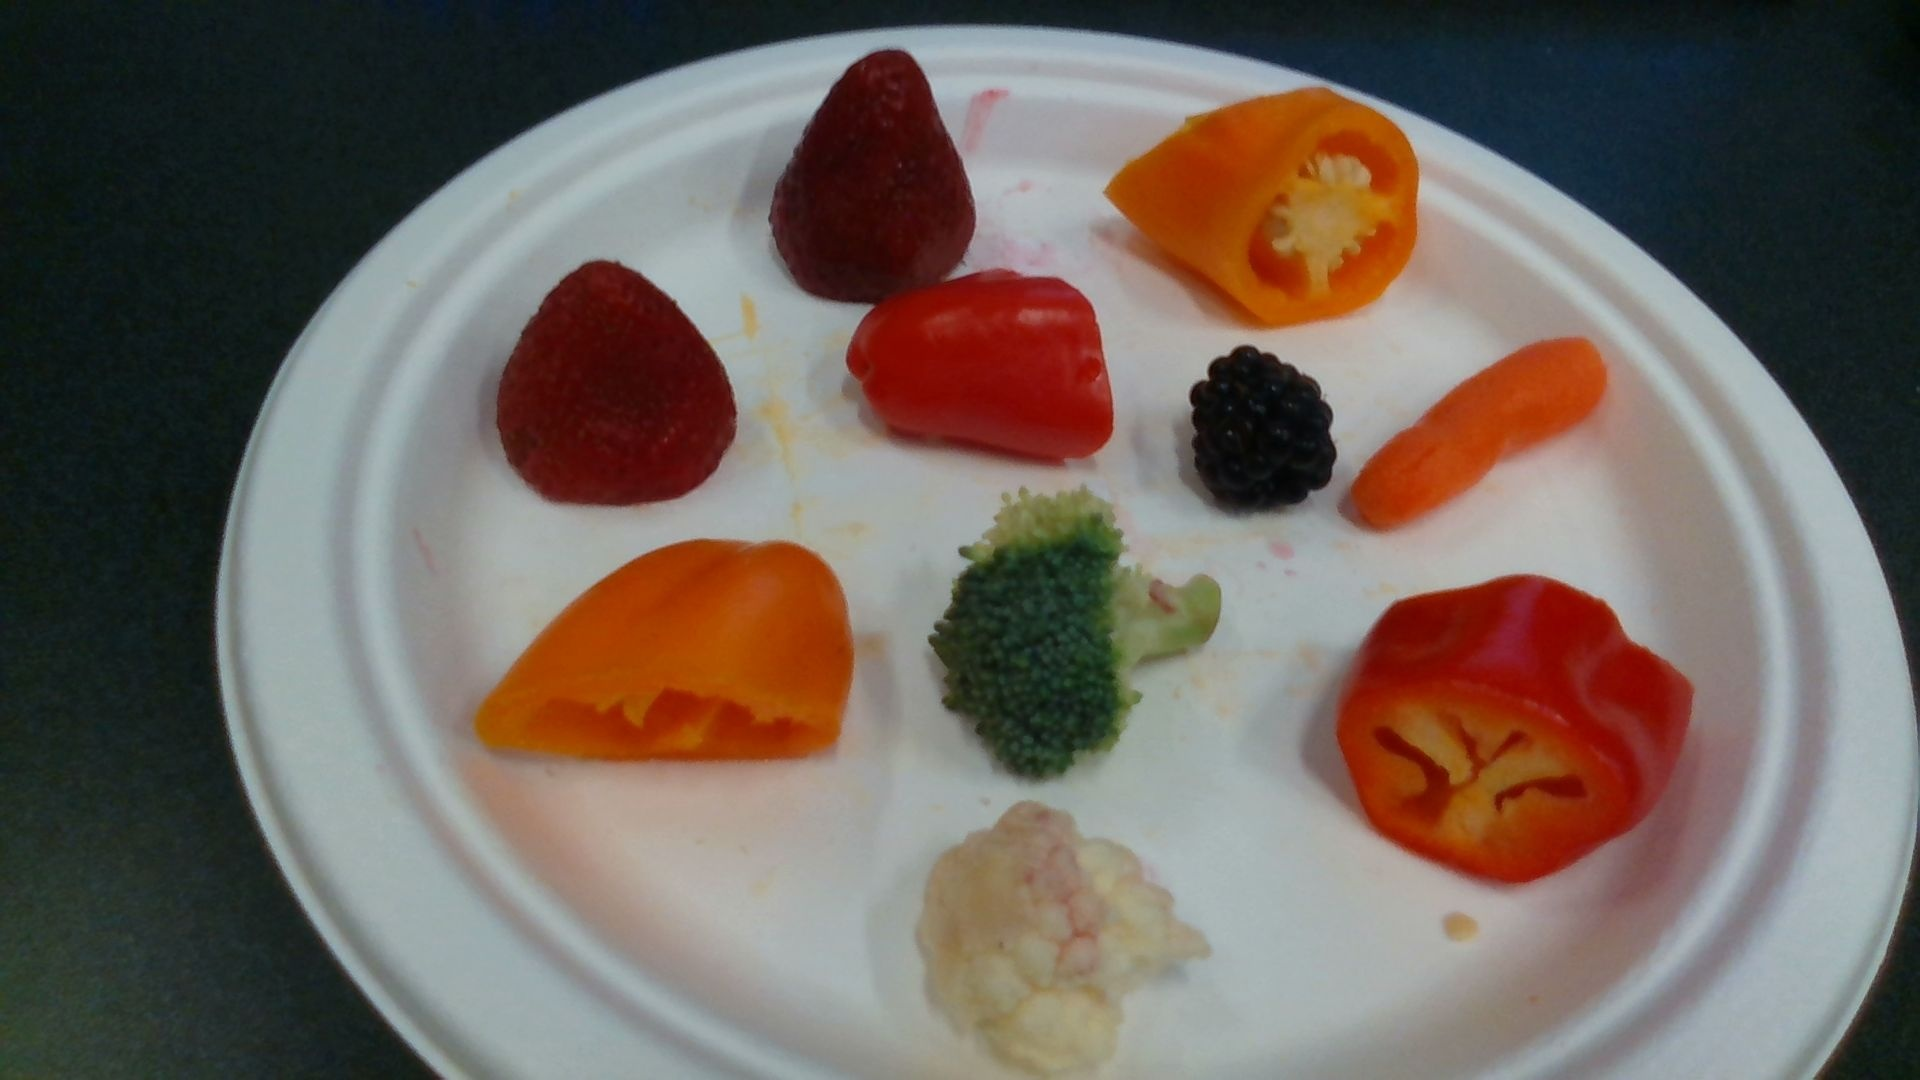bell_pepper: (1337, 575, 1691, 887), (483, 543, 855, 760), (1105, 90, 1420, 323), (849, 273, 1114, 458)
blackberry: (1193, 348, 1337, 513)
broccoli: (939, 496, 1220, 775)
carrot: (1354, 342, 1607, 527)
cauliflower: (922, 804, 1204, 1058)
strawberry: (498, 261, 740, 502), (775, 50, 975, 301)
